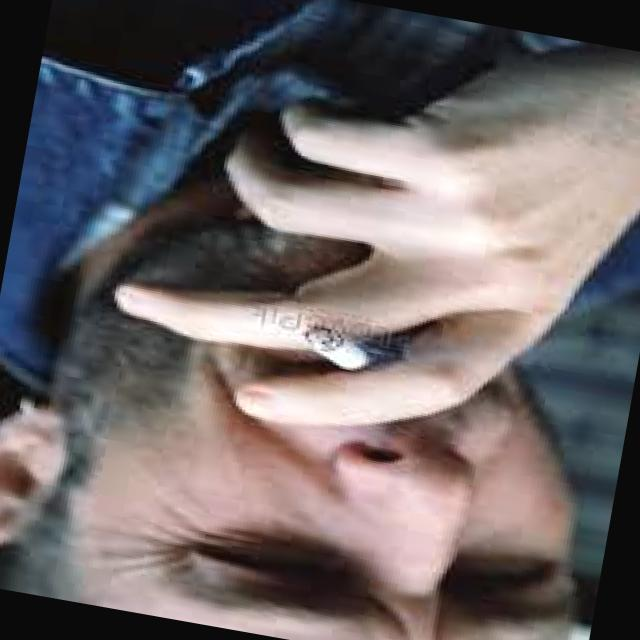cigarette: (287, 309, 396, 394)
